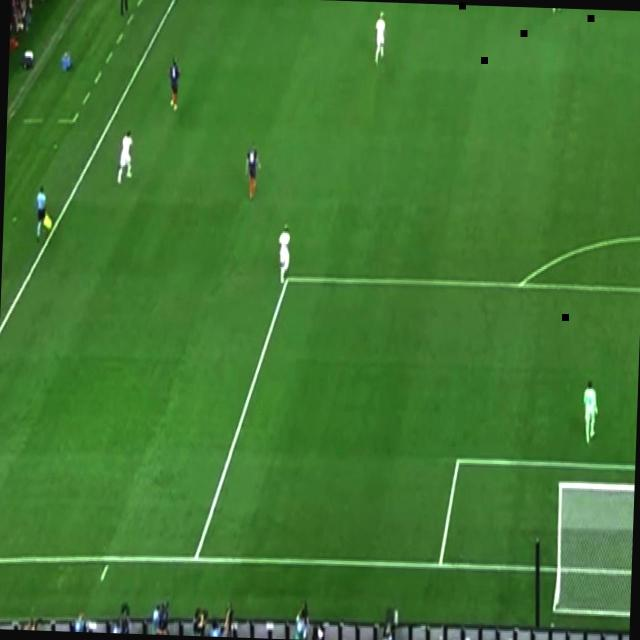player-white: (580, 378, 600, 449), (242, 138, 264, 202), (116, 126, 136, 188), (275, 223, 292, 286), (372, 8, 388, 68), (167, 55, 182, 113), (34, 184, 48, 246), (550, 8, 562, 17)
